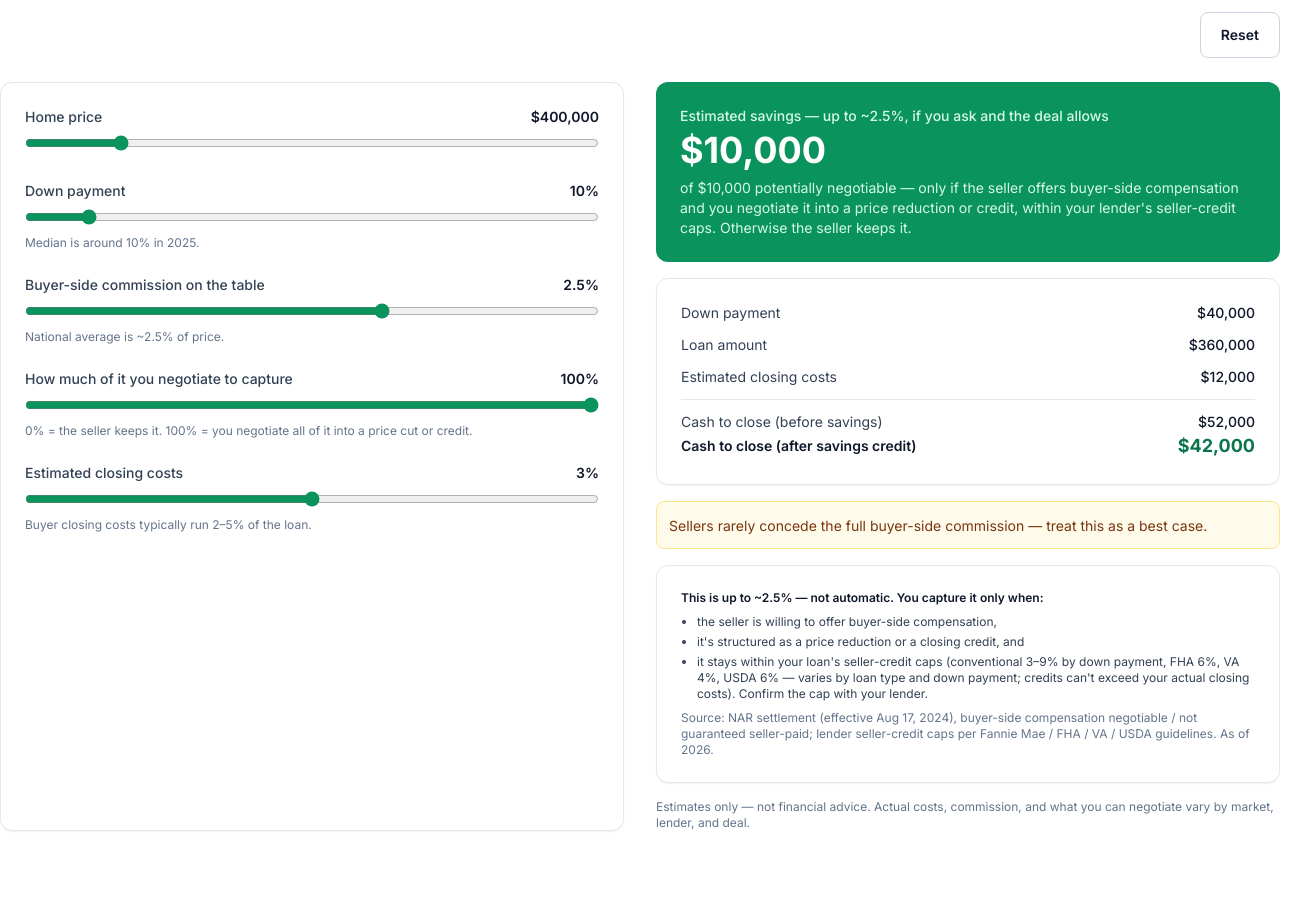
Test case: SavingsCalculator › recomputes when the capture-rate slider changes and still shows a result
Set the slider labelled "How much of it you negotiate to capture" to "50" at (312, 405), box [25,397,599,413]
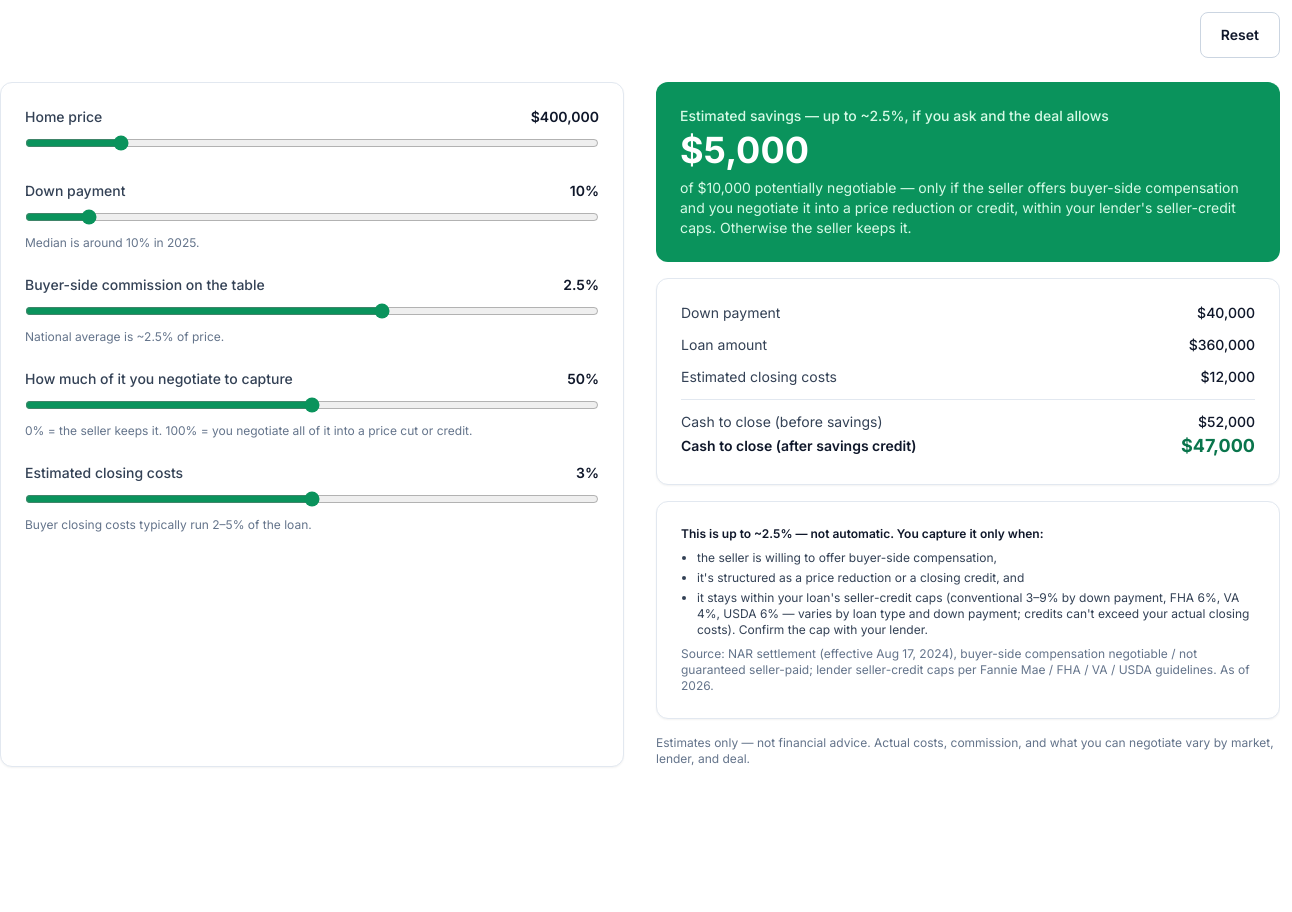
Check: the element with test id "captured-savings" no longer shows "$10,000"
